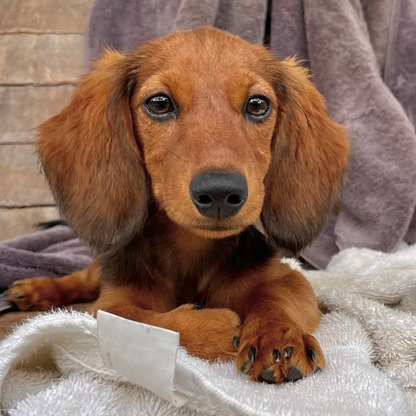dachshund: (42, 29, 372, 379)
